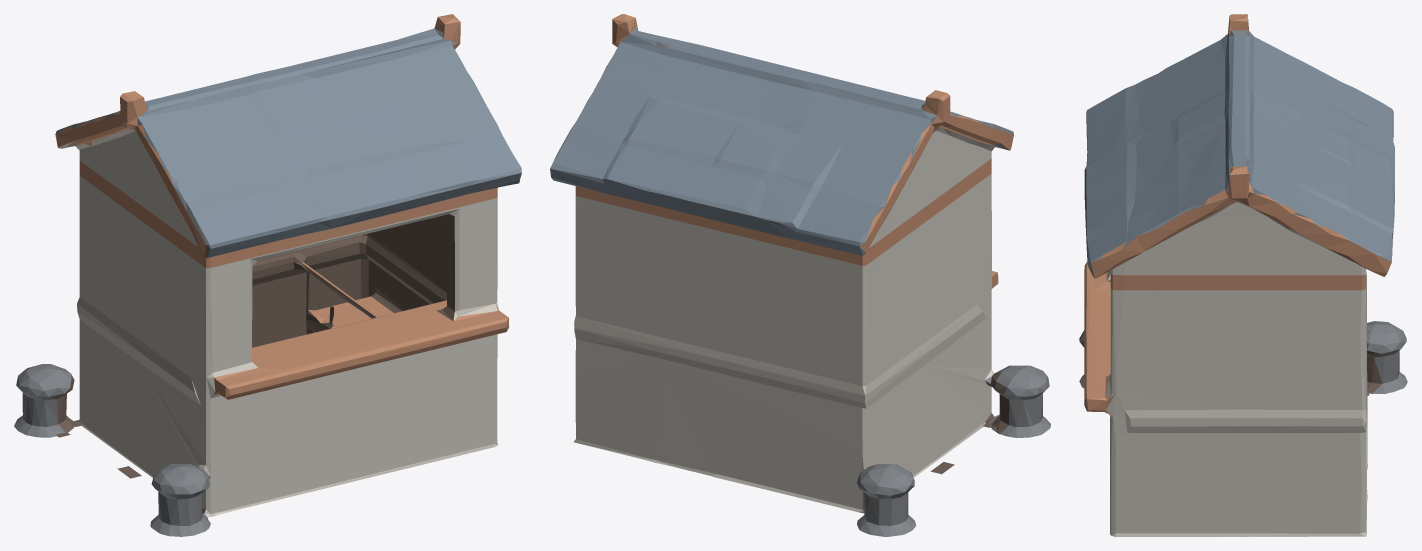
The picture shows the model from 3 angles, left to right: view 1: azimuth 30°, elevation 25°; view 2: azimuth 150°, elevation 25°; view 3: azimuth 270°, elevation 25°; orthographic projection.
Parts seen in each view (by area): view 1: geometry_0; view 2: geometry_0; view 3: geometry_0.
Boxes of the visible parts, <box> form: geometry_0: <box>14,14,521,536</box>; geometry_0: <box>550,14,1050,536</box>; geometry_0: <box>1079,14,1407,536</box>.
Size of the model in its own units: 0.9371 by 0.9187 by 0.7296.
